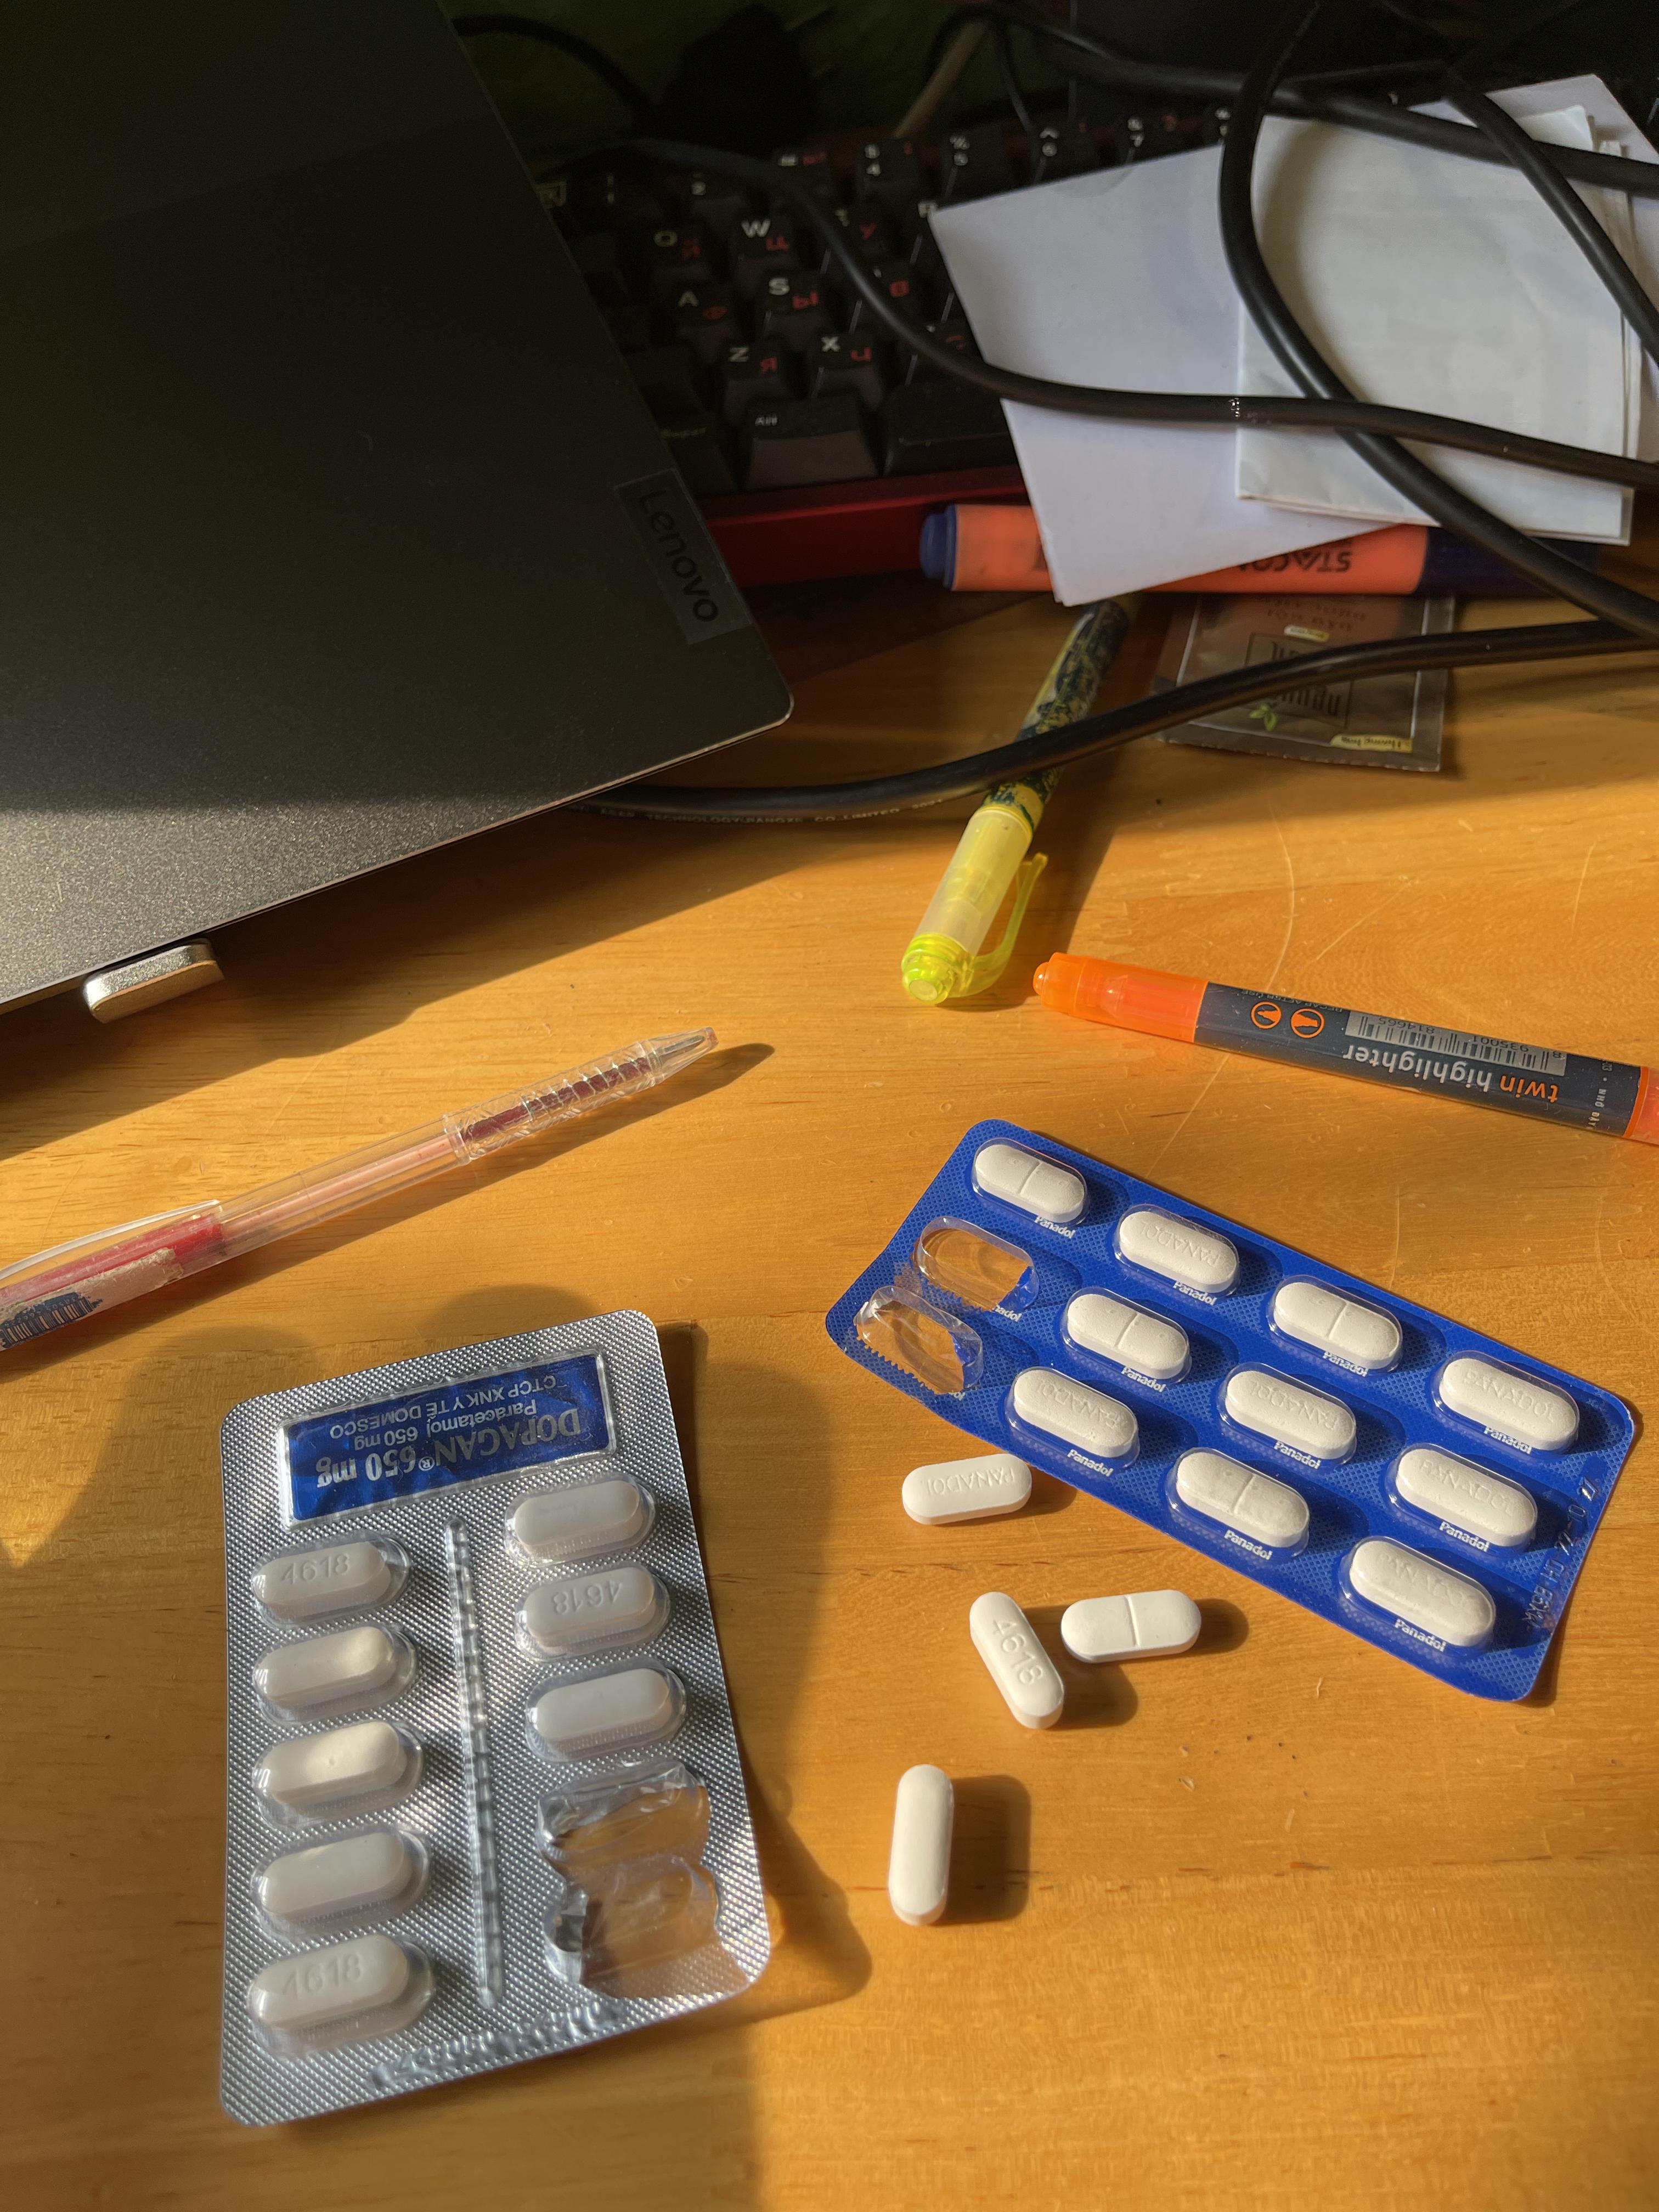Paracetamol_350mg: (1342, 1536, 1502, 1649), (1391, 1446, 1539, 1547), (1169, 1447, 1310, 1550), (1436, 1353, 1581, 1453), (1222, 1367, 1356, 1461), (1270, 1280, 1403, 1374), (1009, 1367, 1140, 1460), (1115, 1207, 1244, 1298), (1063, 1291, 1187, 1379), (1061, 1588, 1201, 1662), (901, 1453, 1032, 1526), (974, 1143, 1087, 1221)
Paracetamol_500mg: (253, 1933, 420, 2047), (254, 1822, 427, 1930), (254, 1716, 420, 1820), (514, 1561, 671, 1660), (526, 1663, 687, 1759), (253, 1622, 411, 1716), (504, 1474, 655, 1566), (967, 1594, 1068, 1731), (251, 1538, 408, 1625), (885, 1763, 955, 1923)
